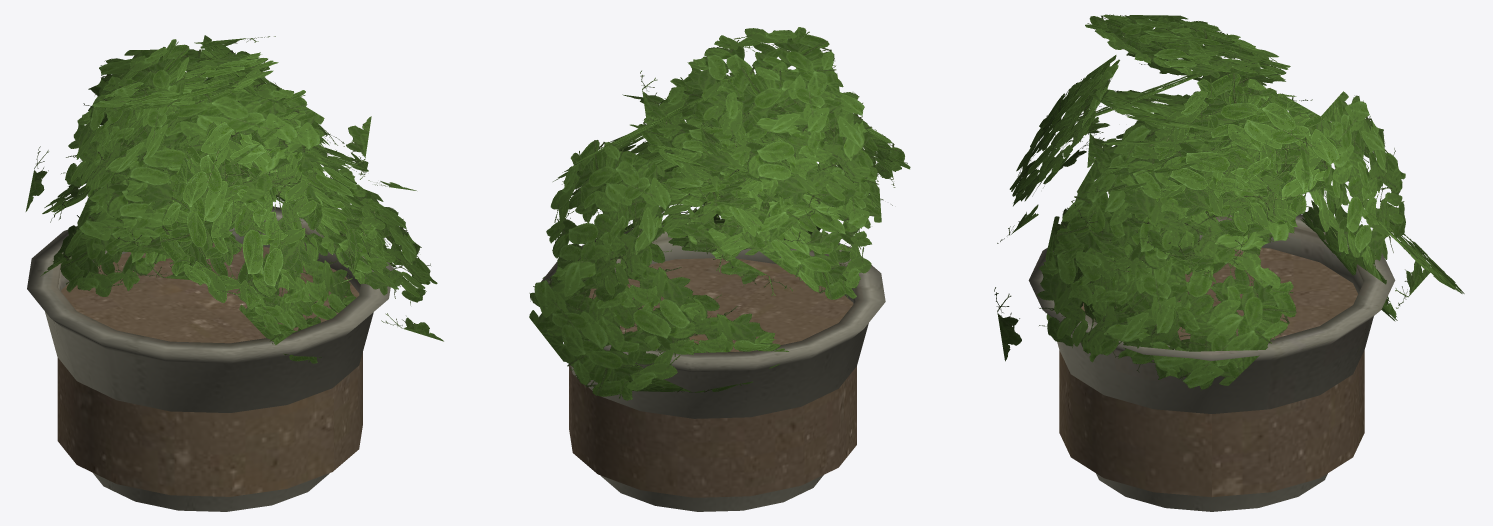
The model's file is planter_round.glb.
3 views of the same model, side by side, from view 1: azimuth 30°, elevation 25°; view 2: azimuth 150°, elevation 25°; view 3: azimuth 270°, elevation 25° (orthographic). The views are drawn at different scales.
Visible parts, largest first — view 1: planter_round_foliage, planter_round_body; view 2: planter_round_foliage, planter_round_body; view 3: planter_round_foliage, planter_round_body.
Boxes of the visible parts, <box> form: planter_round_foliage: <box>25,35,443,363</box>; planter_round_body: <box>27,206,393,511</box>; planter_round_foliage: <box>529,27,910,400</box>; planter_round_body: <box>541,222,885,511</box>; planter_round_foliage: <box>994,14,1464,390</box>; planter_round_body: <box>1028,214,1395,511</box>.
Bounding box in the file's own units: 0.058 × 0.0629 × 0.0671.
3 materials, 3 textured.
